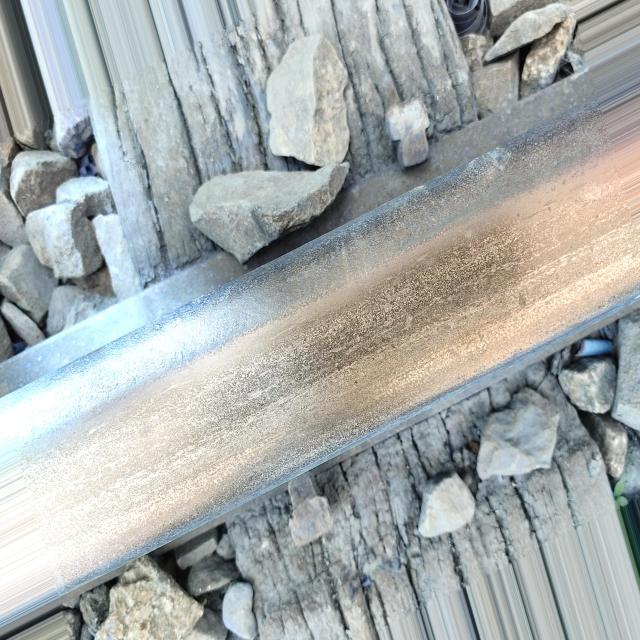Good Fasteners: (386, 97, 435, 169), (288, 473, 333, 547)
